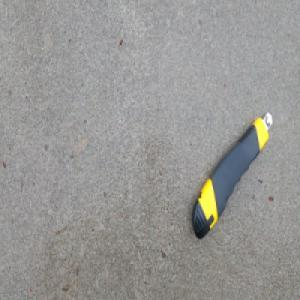Cutter: (191, 110, 273, 241)
